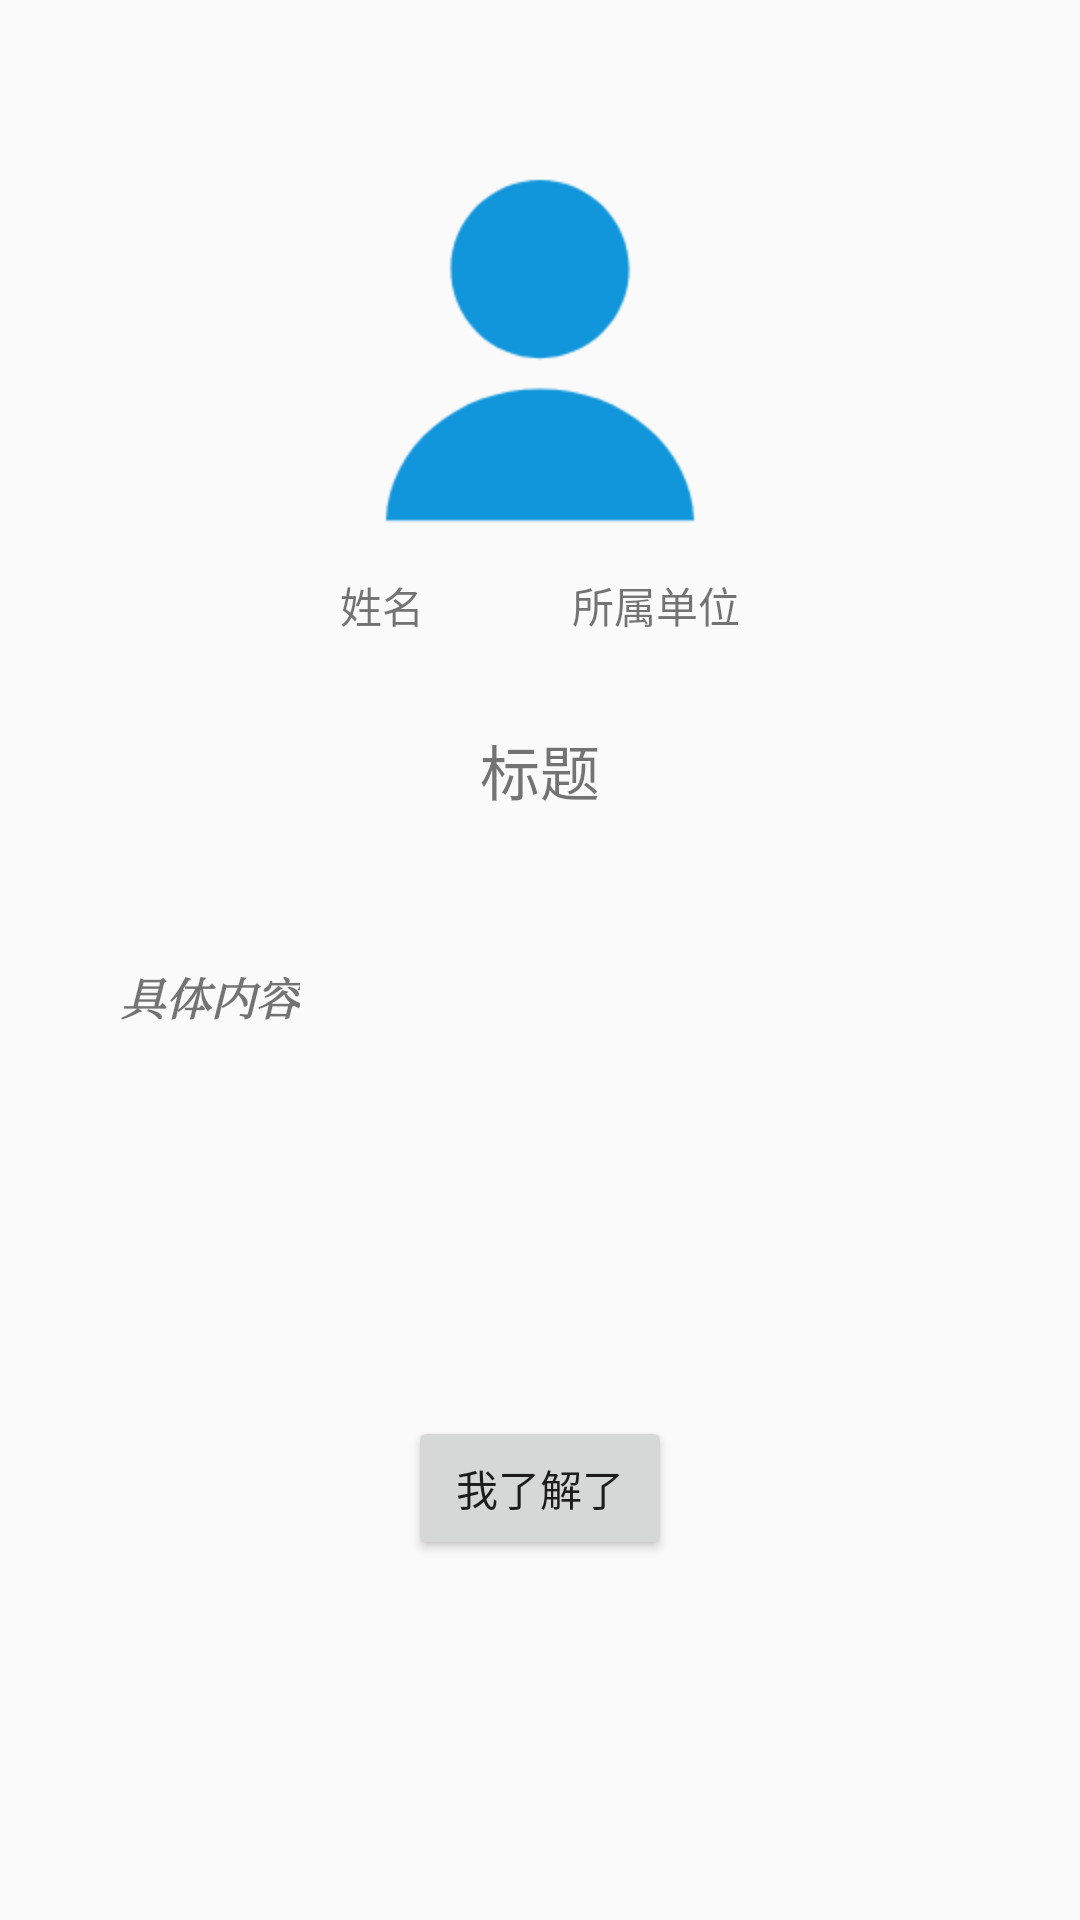

Icon click points for this 1080*1920 phone screenshot, format (x=x, y=y):
user: (x=540, y=350)
